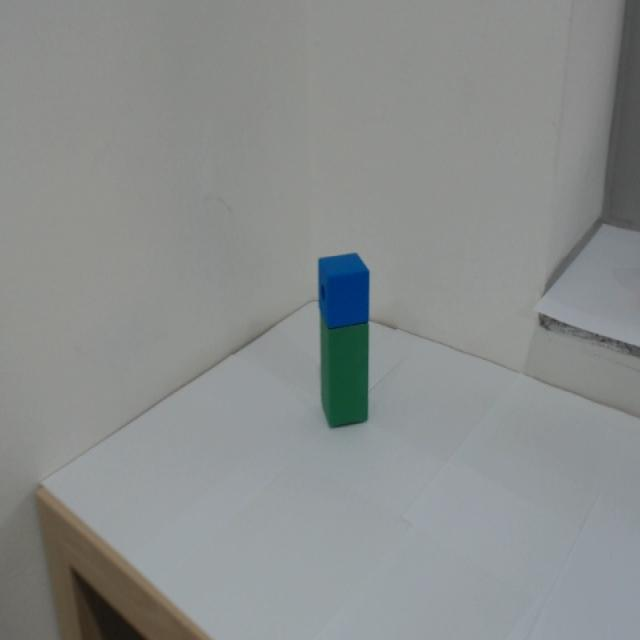cube: (318, 242, 382, 332)
